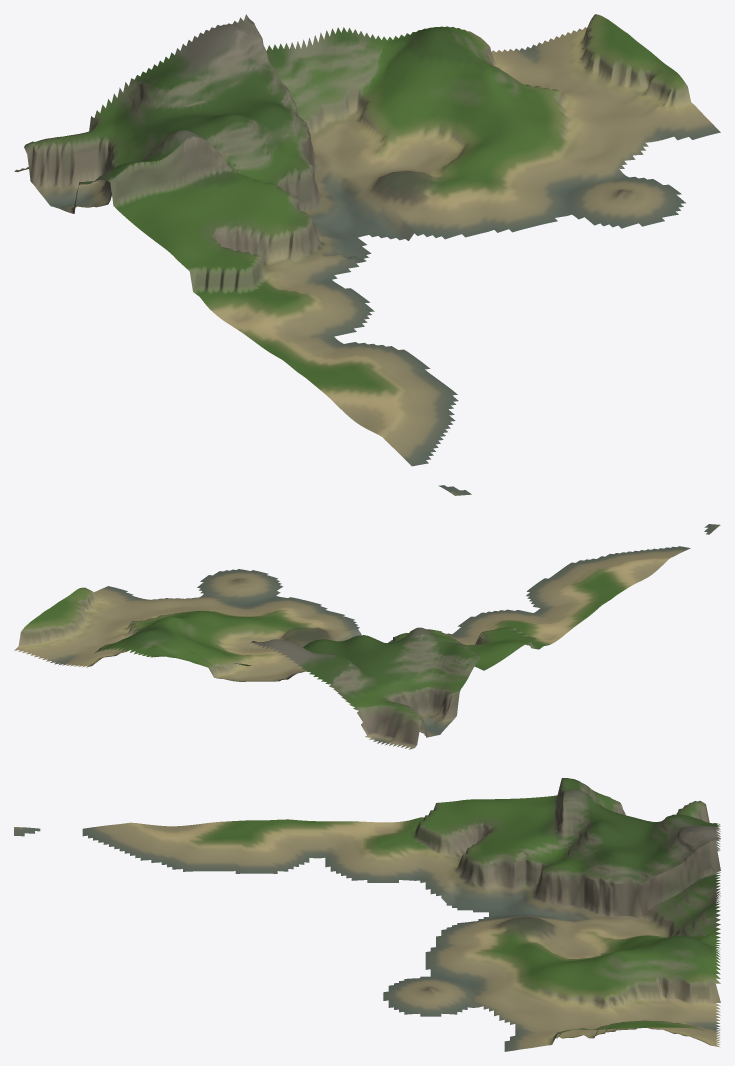
The model's file is coast_tile_x1z2.glb.
The picture shows the model from 3 angles, top to bottom: view 1: azimuth 30°, elevation 25°; view 2: azimuth 150°, elevation 25°; view 3: azimuth 270°, elevation 25°; orthographic projection. The views are drawn at different scales.
Parts seen in each view (by area): view 1: coast_tile_x1z2; view 2: coast_tile_x1z2; view 3: coast_tile_x1z2.
Part boxes in pixels (box(x1,y1,x2,y2)): coast_tile_x1z2: box(14, 14, 720, 495); coast_tile_x1z2: box(14, 524, 720, 749); coast_tile_x1z2: box(14, 778, 720, 1051).
Bounding box in the file's own units: 600 × 108 × 804.
